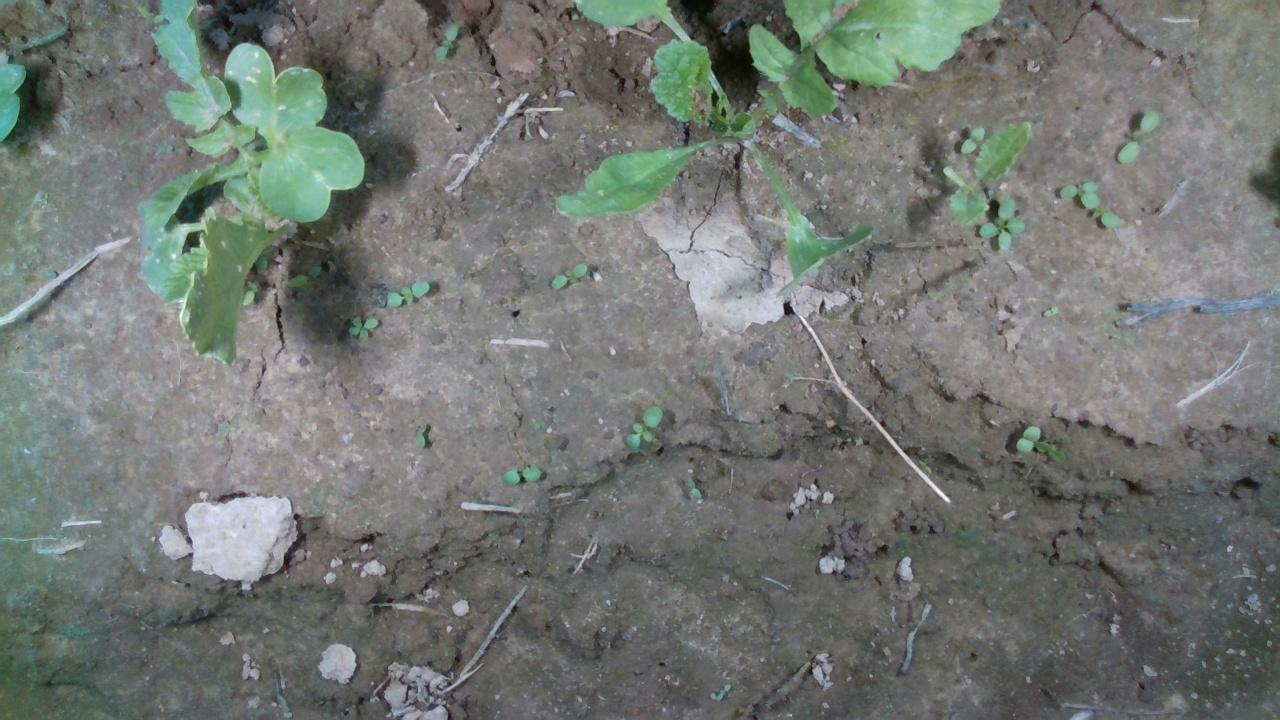weed: (1114, 109, 1160, 166), (624, 404, 663, 449), (383, 277, 429, 308), (549, 261, 586, 289), (344, 314, 380, 340), (500, 464, 541, 485), (415, 419, 427, 449), (684, 477, 702, 497), (1041, 304, 1058, 317)
